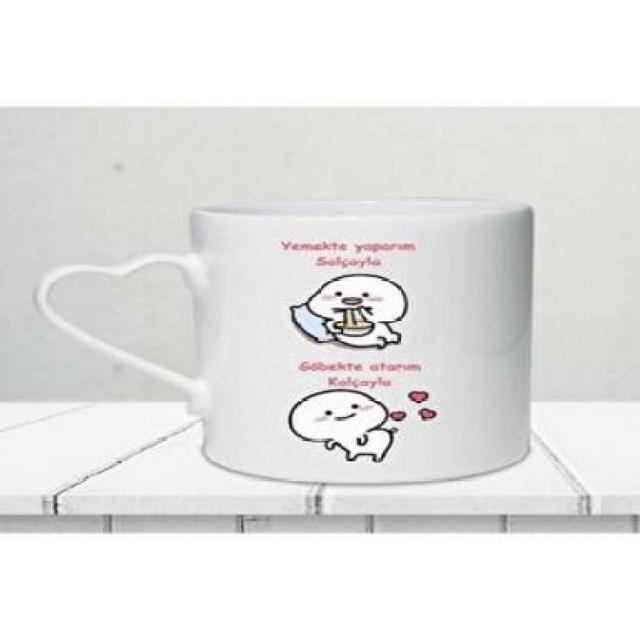taza: (32, 200, 534, 487)
